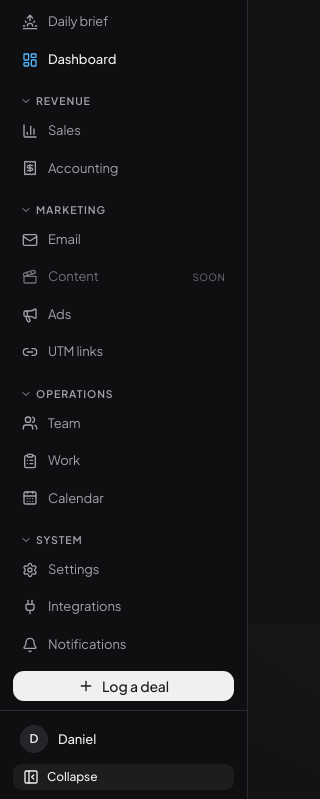
Test: Sidebar › hides labels when collapsed
(page scrolled)
Expected: the text "Dashboard" is shown, [48,51,116,67]
Click the button with aria-label "collapse sidebar": (124, 777) [12,763,235,791]
(page scrolled)
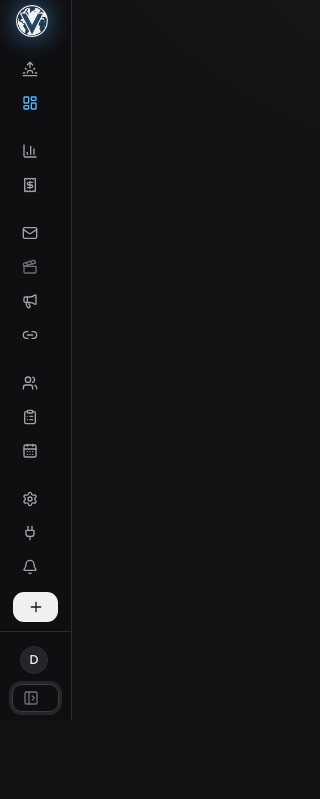
Expected: the link "Dashboard" is gone
